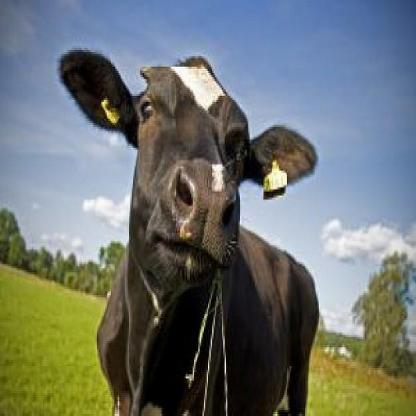cow: (58, 48, 320, 416)
